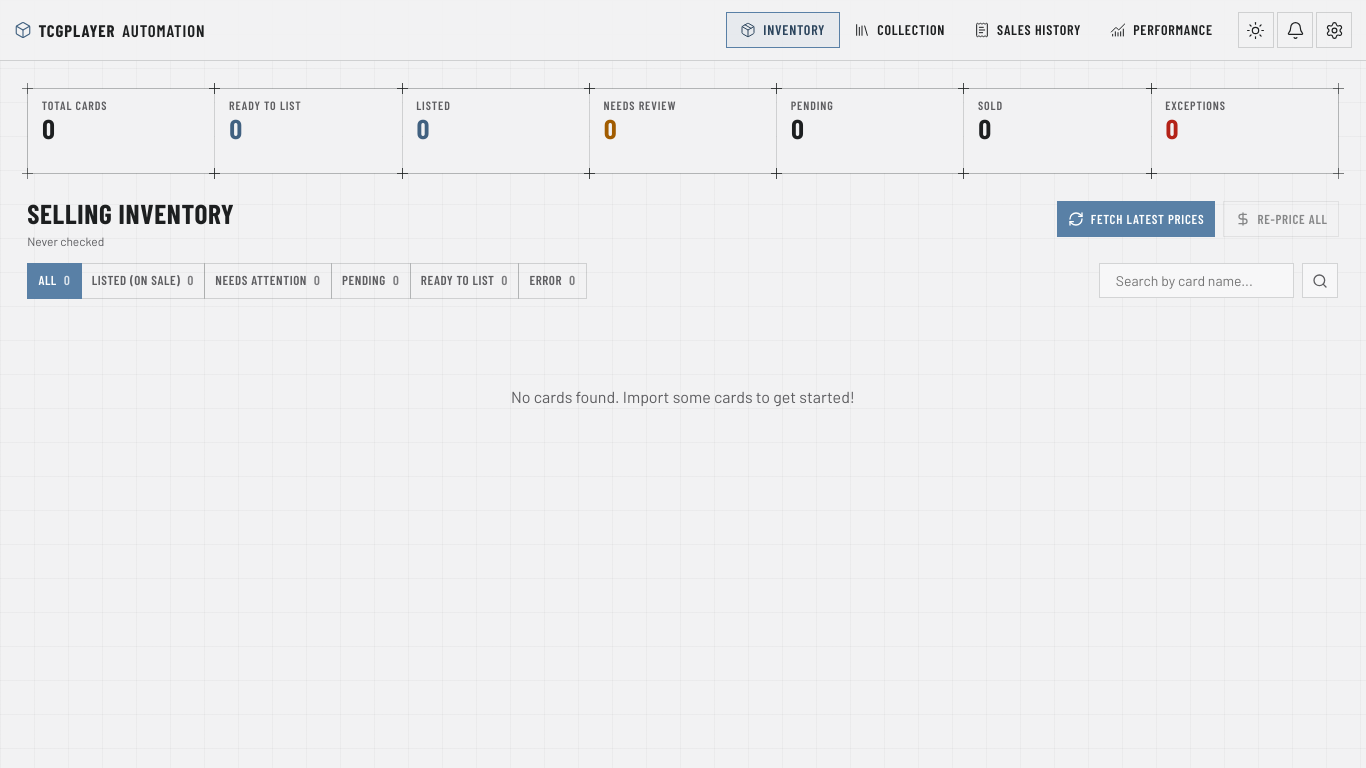
Scenario: App view tabs › replaces the Notifications tab with a bell that opens and restores focus from notification history
expect the tab "notifications" is not shown: met
expect the icon with class "lucide-bell" is shown: met, box [1286, 20, 1304, 40]
Step 1. Click the button named "Notifications" → (1295,30), box [1277, 12, 1313, 48]
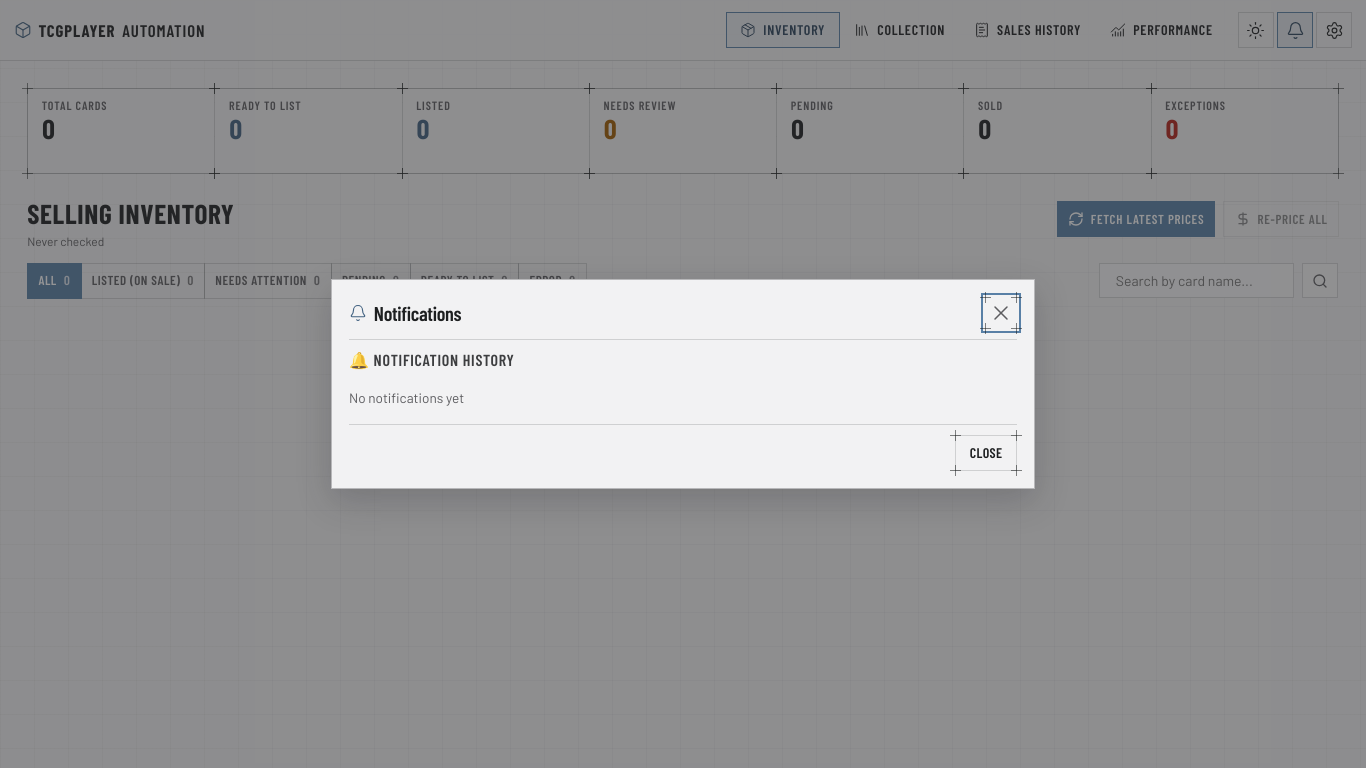
expect the button named "Notifications" is expanded: met, box [1277, 12, 1313, 48]
expect the text "No notifications yet" is shown: met, box [349, 389, 464, 406]
Step 2. Click the button named "close notifications" → (1001,313), box [985, 297, 1017, 329]
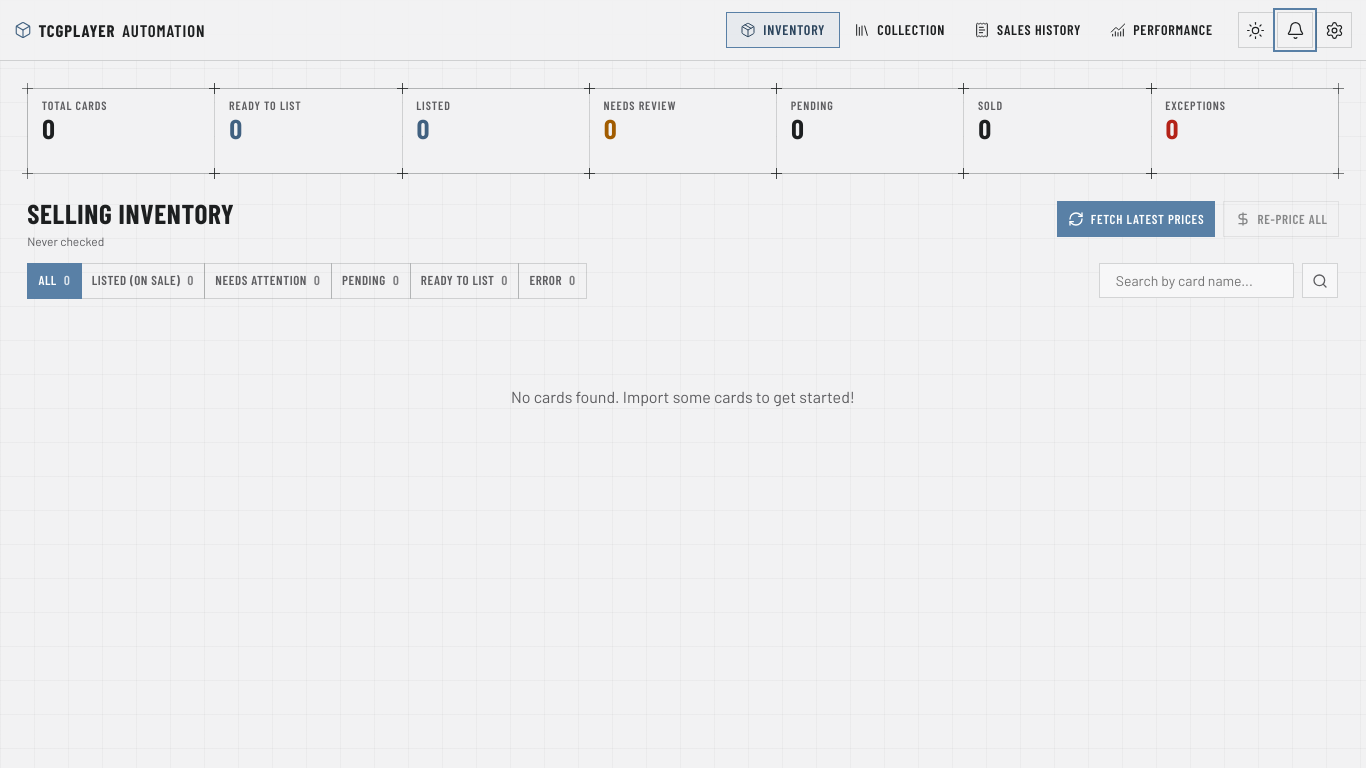
expect the dialog "Notifications" is gone: met
expect the button named "Notifications" is collapsed: met, box [1277, 12, 1313, 48]
